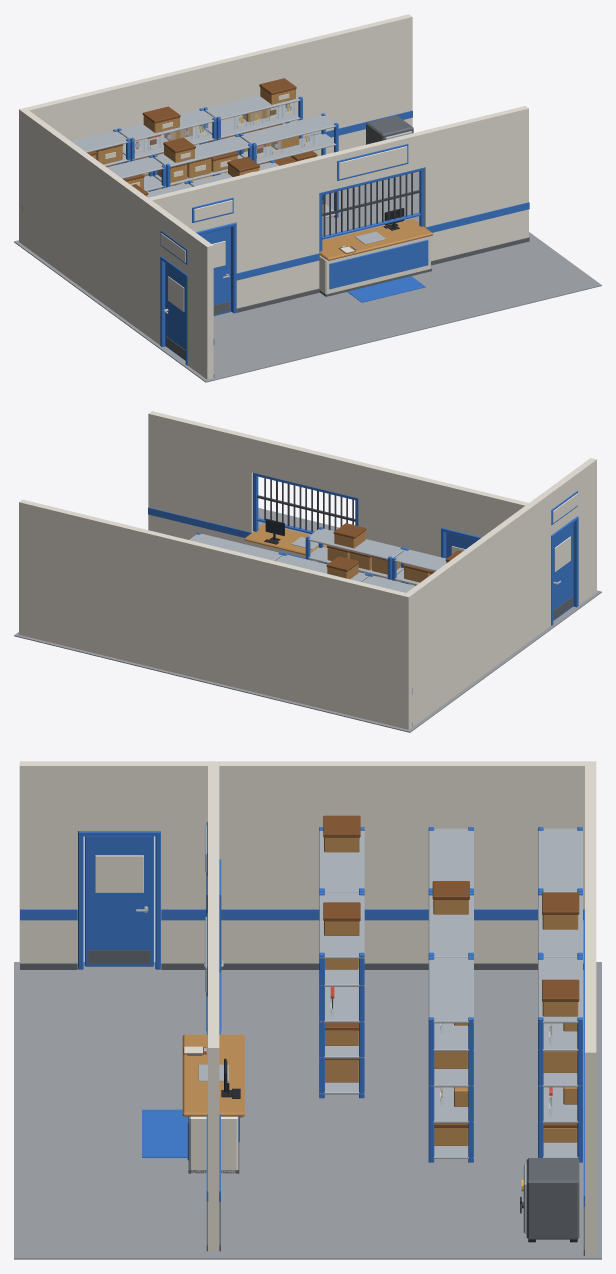
File: police-evidence-room.glb
The picture shows the model from 3 angles, top to bottom: view 1: azimuth 30°, elevation 25°; view 2: azimuth 150°, elevation 25°; view 3: azimuth 270°, elevation 25°; orthographic projection. The views are drawn at different scales.
Visible parts, largest first — view 1: EvidenceRoom_Shell, CheckoutCounter, Shelf_B3, Shelf_A3, Shelf_A2, Shelf_B2, EntryDoor, SecureDoor, Shelf_A1, Shelf_B1, Safe_Small, Shelf_C2; view 2: EvidenceRoom_Shell, CheckoutCounter, Shelf_C2, EntryDoor, Shelf_C1, Shelf_B2, Shelf_B3, Shelf_B1, SecureDoor; view 3: EvidenceRoom_Shell, Shelf_C2, Shelf_B3, EntryDoor, Shelf_A3, CheckoutCounter, Safe_Small, Shelf_C1, Shelf_B2, Shelf_A2, Shelf_A1, Shelf_B1.
Boxes of the visible parts, x1,y1,x2,y2 form: EvidenceRoom_Shell: [14, 14, 601, 382]; CheckoutCounter: [319, 167, 433, 296]; Shelf_B3: [239, 113, 338, 218]; Shelf_A3: [203, 78, 302, 174]; Shelf_A2: [117, 106, 216, 191]; Shelf_B2: [153, 134, 252, 190]; EntryDoor: [163, 263, 185, 360]; SecureDoor: [199, 227, 230, 315]; Shelf_A1: [71, 129, 130, 166]; Shelf_B1: [107, 155, 166, 191]; Safe_Small: [366, 115, 413, 144]; Shelf_C2: [188, 156, 278, 186]; EvidenceRoom_Shell: [14, 411, 601, 732]; CheckoutCounter: [244, 472, 358, 561]; Shelf_C2: [305, 523, 405, 583]; EntryDoor: [553, 523, 573, 620]; Shelf_C1: [392, 548, 462, 585]; Shelf_B2: [275, 553, 369, 581]; Shelf_B3: [189, 532, 283, 560]; Shelf_B1: [362, 574, 415, 592]; SecureDoor: [446, 532, 477, 558]; EvidenceRoom_Shell: [14, 761, 601, 1259]; Shelf_C2: [319, 891, 364, 1098]; Shelf_B3: [428, 956, 473, 1162]; EntryDoor: [84, 836, 154, 966]; Shelf_A3: [538, 956, 582, 1162]; CheckoutCounter: [182, 1034, 244, 1173]; Safe_Small: [526, 1158, 579, 1242]; Shelf_C1: [319, 815, 364, 892]; Shelf_B2: [428, 881, 473, 957]; Shelf_A2: [538, 891, 582, 957]; Shelf_A1: [538, 827, 582, 892]; Shelf_B1: [428, 827, 473, 891].
Size of the model in its own units: 37.2 by 12 by 31.2.
